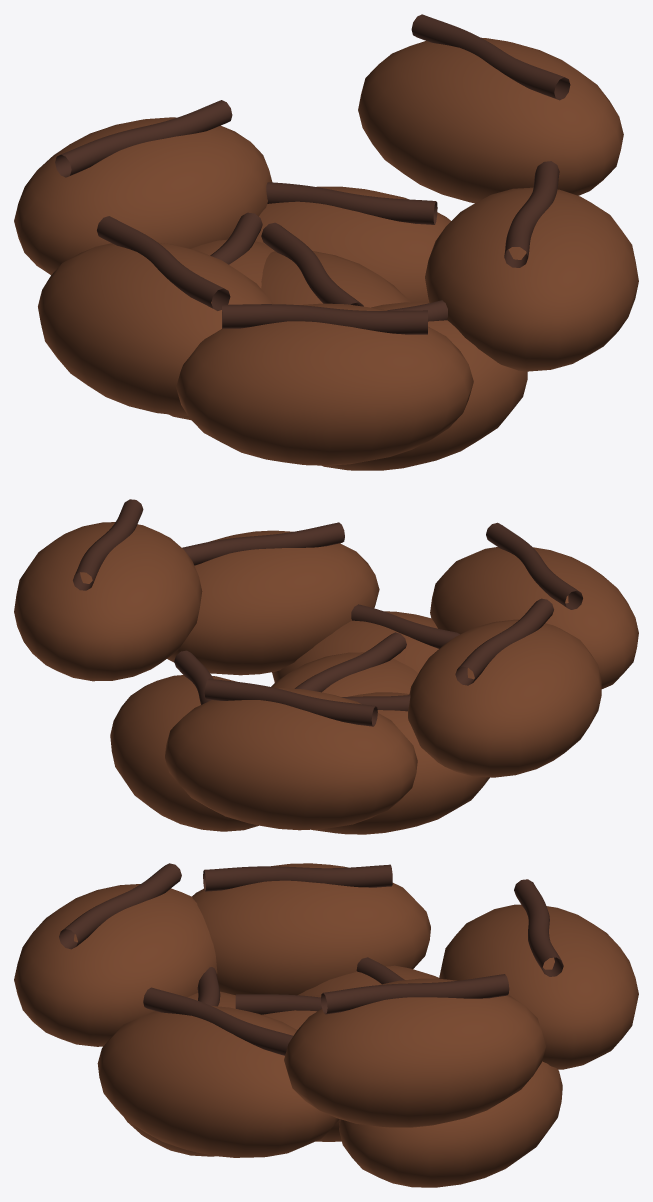
File: coffee-beans.glb
3 renders of one model, top to bottom at view 1: azimuth 30°, elevation 25°; view 2: azimuth 150°, elevation 25°; view 3: azimuth 270°, elevation 25°, orthographic. The views are drawn at different scales.
Visible parts, largest first — view 1: coffee-beans_mesh; view 2: coffee-beans_mesh; view 3: coffee-beans_mesh.
Boxes of the visible parts, x1,y1,x2,y2 form: coffee-beans_mesh: (14, 14, 638, 470); coffee-beans_mesh: (14, 499, 638, 834); coffee-beans_mesh: (14, 863, 638, 1187).
Bounding box in the file's own units: 0.1804 × 0.0798 × 0.1848.
